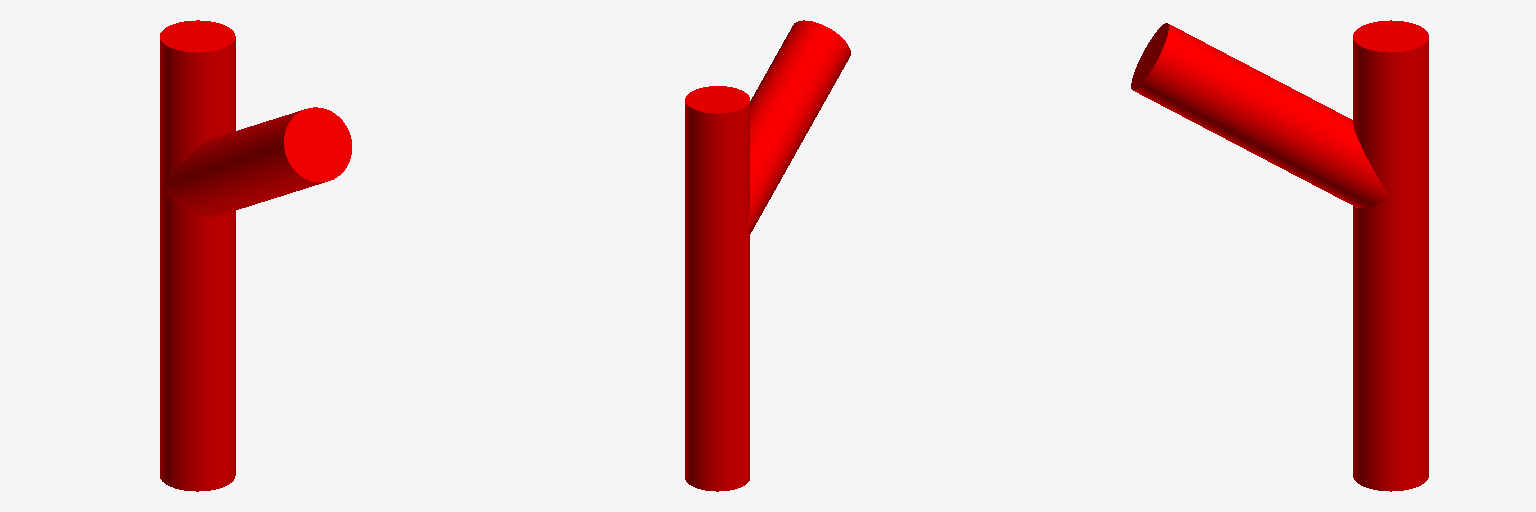
URDF robot description (tree.urdf):
<?xml version="1.0" ?>
<robot name="tree.urdf">
  <link name="baseLink">
    <inertial>
      <origin rpy="0 0 0" xyz="0 0 0"/>
       <mass value=".1"/>
       <inertia ixx="1" ixy="0" ixz="0" iyy="1" iyz="0" izz="1"/>
    </inertial>
    <visual>
      <origin rpy="0 0 0" xyz="0 0 0"/>
      <geometry>
        <mesh filename="7.stl" scale="1 1 1" />
      </geometry>
      <material name="red">
        <color rgba="1 0 0 1"/>
      </material>
    </visual>
    <collision>
      <origin rpy="0 0 0" xyz="0 0 0"/>
      <geometry>
        <mesh filename="7_convex.obj" scale="1 1 1" />
      </geometry>
    </collision>
  </link>
</robot>

--- Render facts (derived) ---
The picture shows the robot from 3 angles, left to right: view 1: azimuth 30°, elevation 25°; view 2: azimuth 150°, elevation 25°; view 3: azimuth 270°, elevation 25°; orthographic projection.
Model tree.urdf with 1 links and 0 joints (none), rooted at baseLink, posed all joints at 0.
Links seen in each view (by area): view 1: baseLink; view 2: baseLink; view 3: baseLink.
Link boxes in pixels (<box>): baseLink: <box>160,20,351,491</box>; baseLink: <box>685,20,850,491</box>; baseLink: <box>1131,20,1428,491</box>.
Size in the robot's own frame: 0.0391 by 0.1537 by 0.2554 metres.
Meshes: 1 distinct files referenced, 1 mesh visuals loaded (1 binary STL).